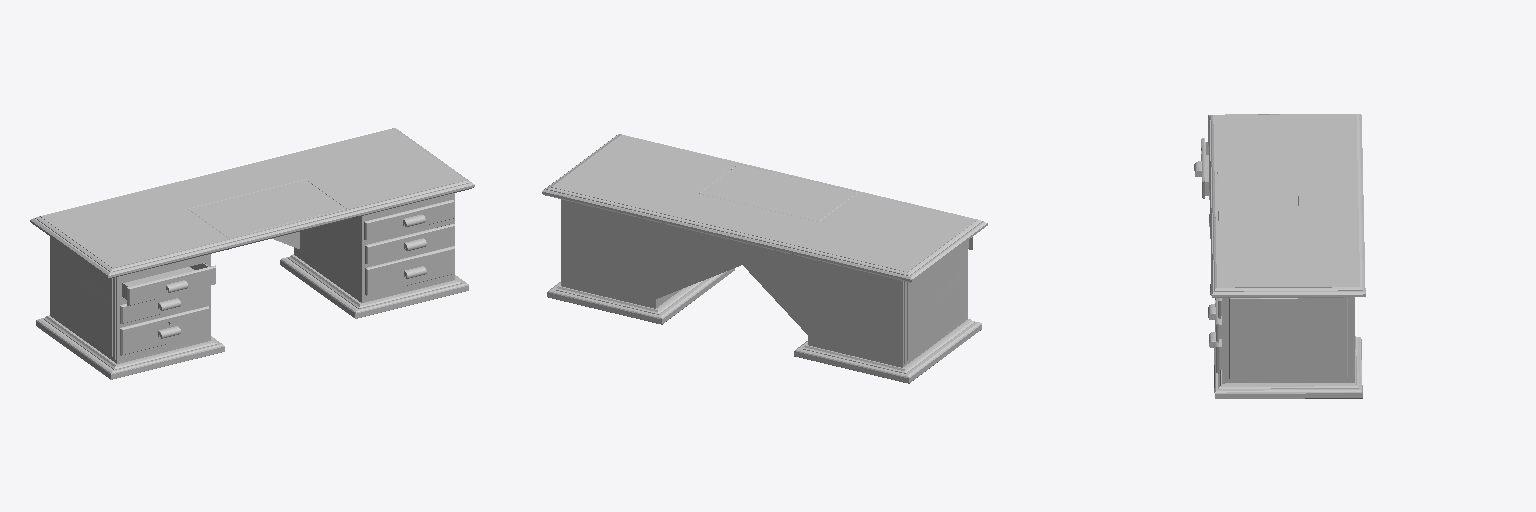
Rendered from escritorio.obj.
The picture shows the model from 3 angles: view 1: azimuth 30°, elevation 25°; view 2: azimuth 150°, elevation 25°; view 3: azimuth 270°, elevation 25°; orthographic projection.
Visible parts, largest first — view 1: polySurface76; view 2: polySurface76; view 3: polySurface76.
Part boxes in pixels (x1,y1,x2,y2): polySurface76: (30,128,474,379); polySurface76: (542,134,987,383); polySurface76: (1194,114,1365,398).
Bounding box in the file's own units: 28.47 × 8.11 × 11.42.